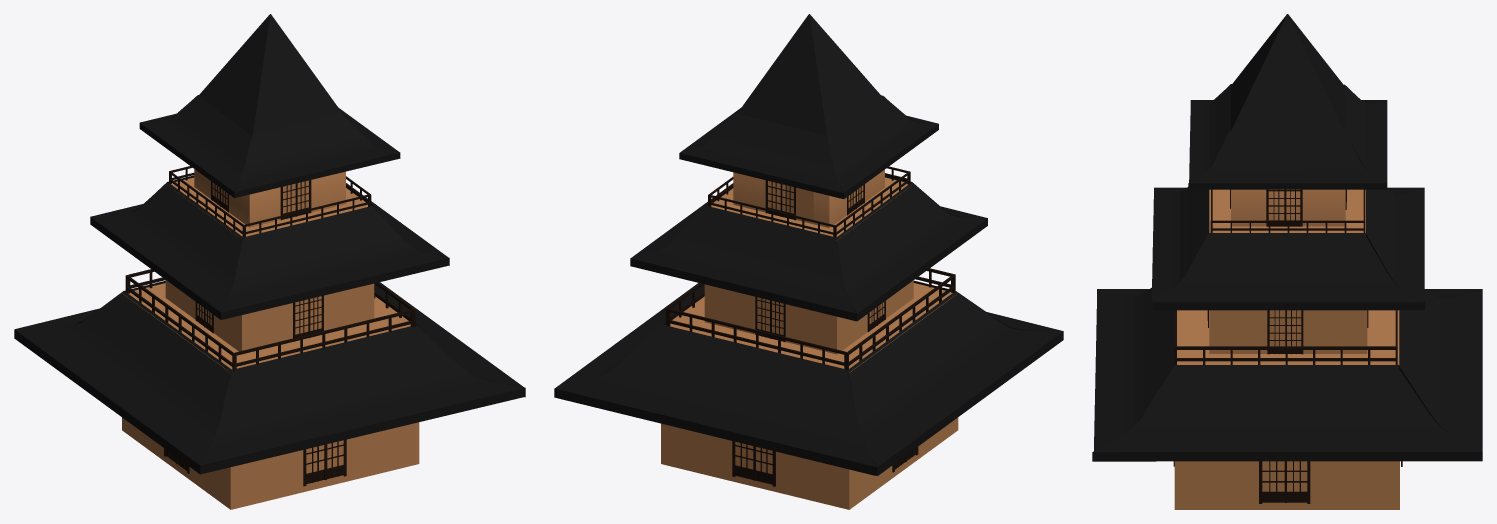
Rendered from Shrine.obj.
3 views of the same model, side by side, from view 1: azimuth 30°, elevation 25°; view 2: azimuth 150°, elevation 25°; view 3: azimuth 270°, elevation 25° (orthographic). The views are drawn at different scales.
Parts seen in each view (by area): view 1: Pagoda; view 2: Pagoda; view 3: Pagoda.
Boxes of the visible parts, x1,y1,x2,y2 form: Pagoda: (14,14,525,509); Pagoda: (554,14,1063,509); Pagoda: (1092,14,1482,509).
Size of the model in its own units: 8.54 by 10.91 by 8.61.
